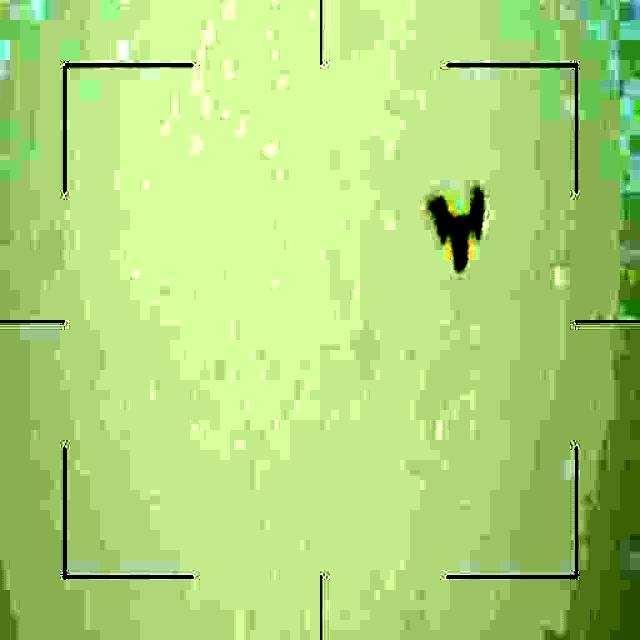bird: (429, 180, 489, 281)
